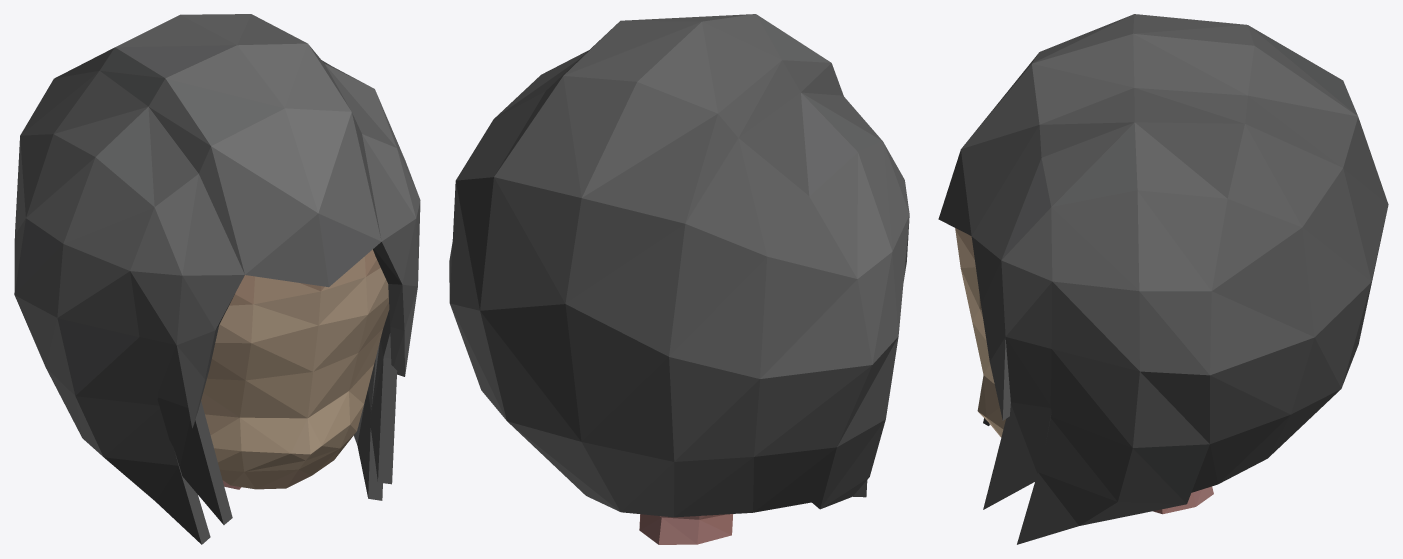
The model's file is helm_lightskin_bob_gray.fbx.
3 views of the same model, side by side, from view 1: azimuth 30°, elevation 25°; view 2: azimuth 150°, elevation 25°; view 3: azimuth 270°, elevation 25° (orthographic). The views are drawn at different scales.
Visible parts, largest first — view 1: helm_lightskin_bob_gray; view 2: helm_lightskin_bob_gray; view 3: helm_lightskin_bob_gray.
Part boxes in pixels (x1=…): helm_lightskin_bob_gray: x1=14, y1=14, x2=420, y2=544; helm_lightskin_bob_gray: x1=449, y1=14, x2=909, y2=544; helm_lightskin_bob_gray: x1=938, y1=14, x2=1388, y2=544.
Bounding box in the file's own units: 1.18 × 1.34 × 1.16.
